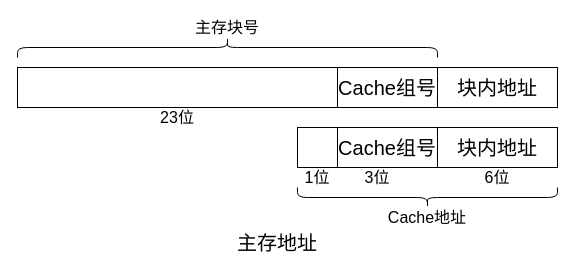
The diagram is 575 pixels wide and 274 high, and some of its shapes have lost their labels. Here are the shapes that lost their labels. From the top down, the centre of each, then its label:
(x=177, y=87): 标记
(x=317, y=147): 组内块号
